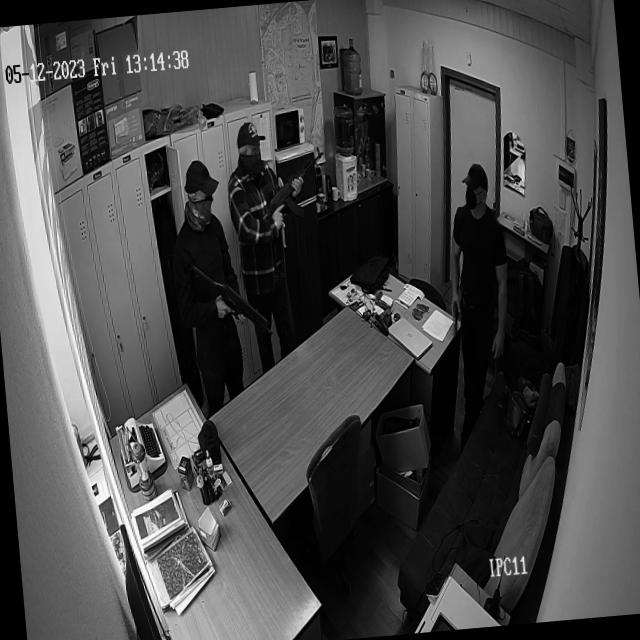gun: (190, 256, 275, 346), (262, 146, 330, 224), (450, 292, 462, 334)
person with a gun: (167, 162, 248, 396), (440, 163, 515, 411), (225, 122, 300, 358)
